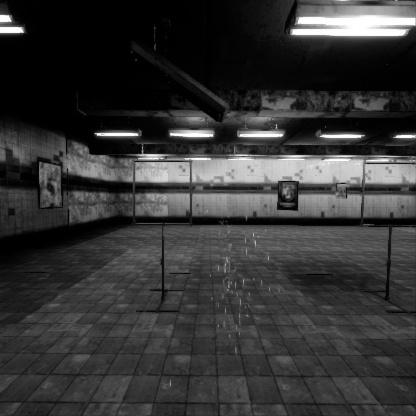gate: (132, 189, 197, 257), (361, 188, 416, 255)
